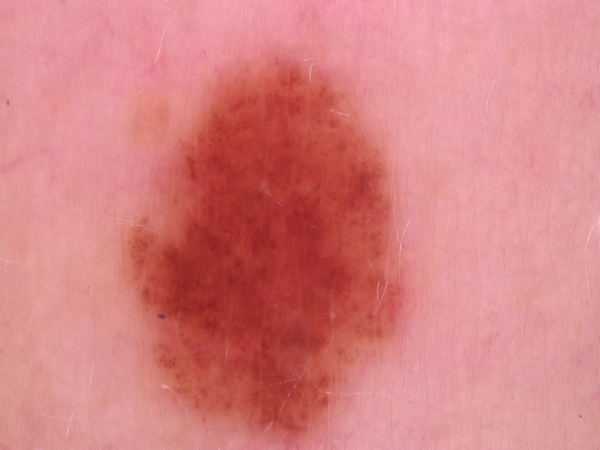Detected Lesion: (118, 32, 412, 443)
